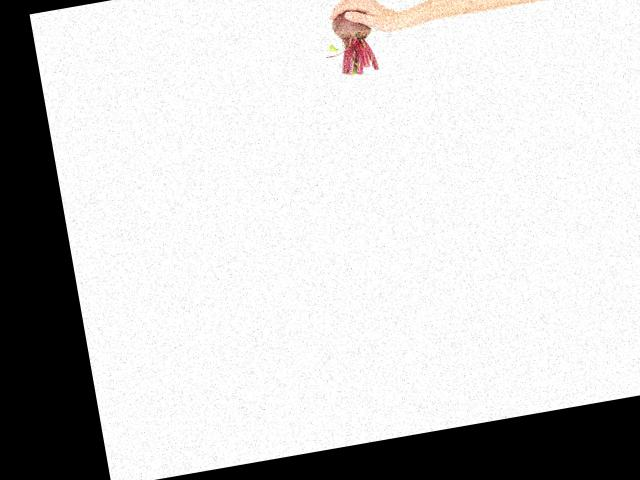beet: (317, 6, 378, 79)
